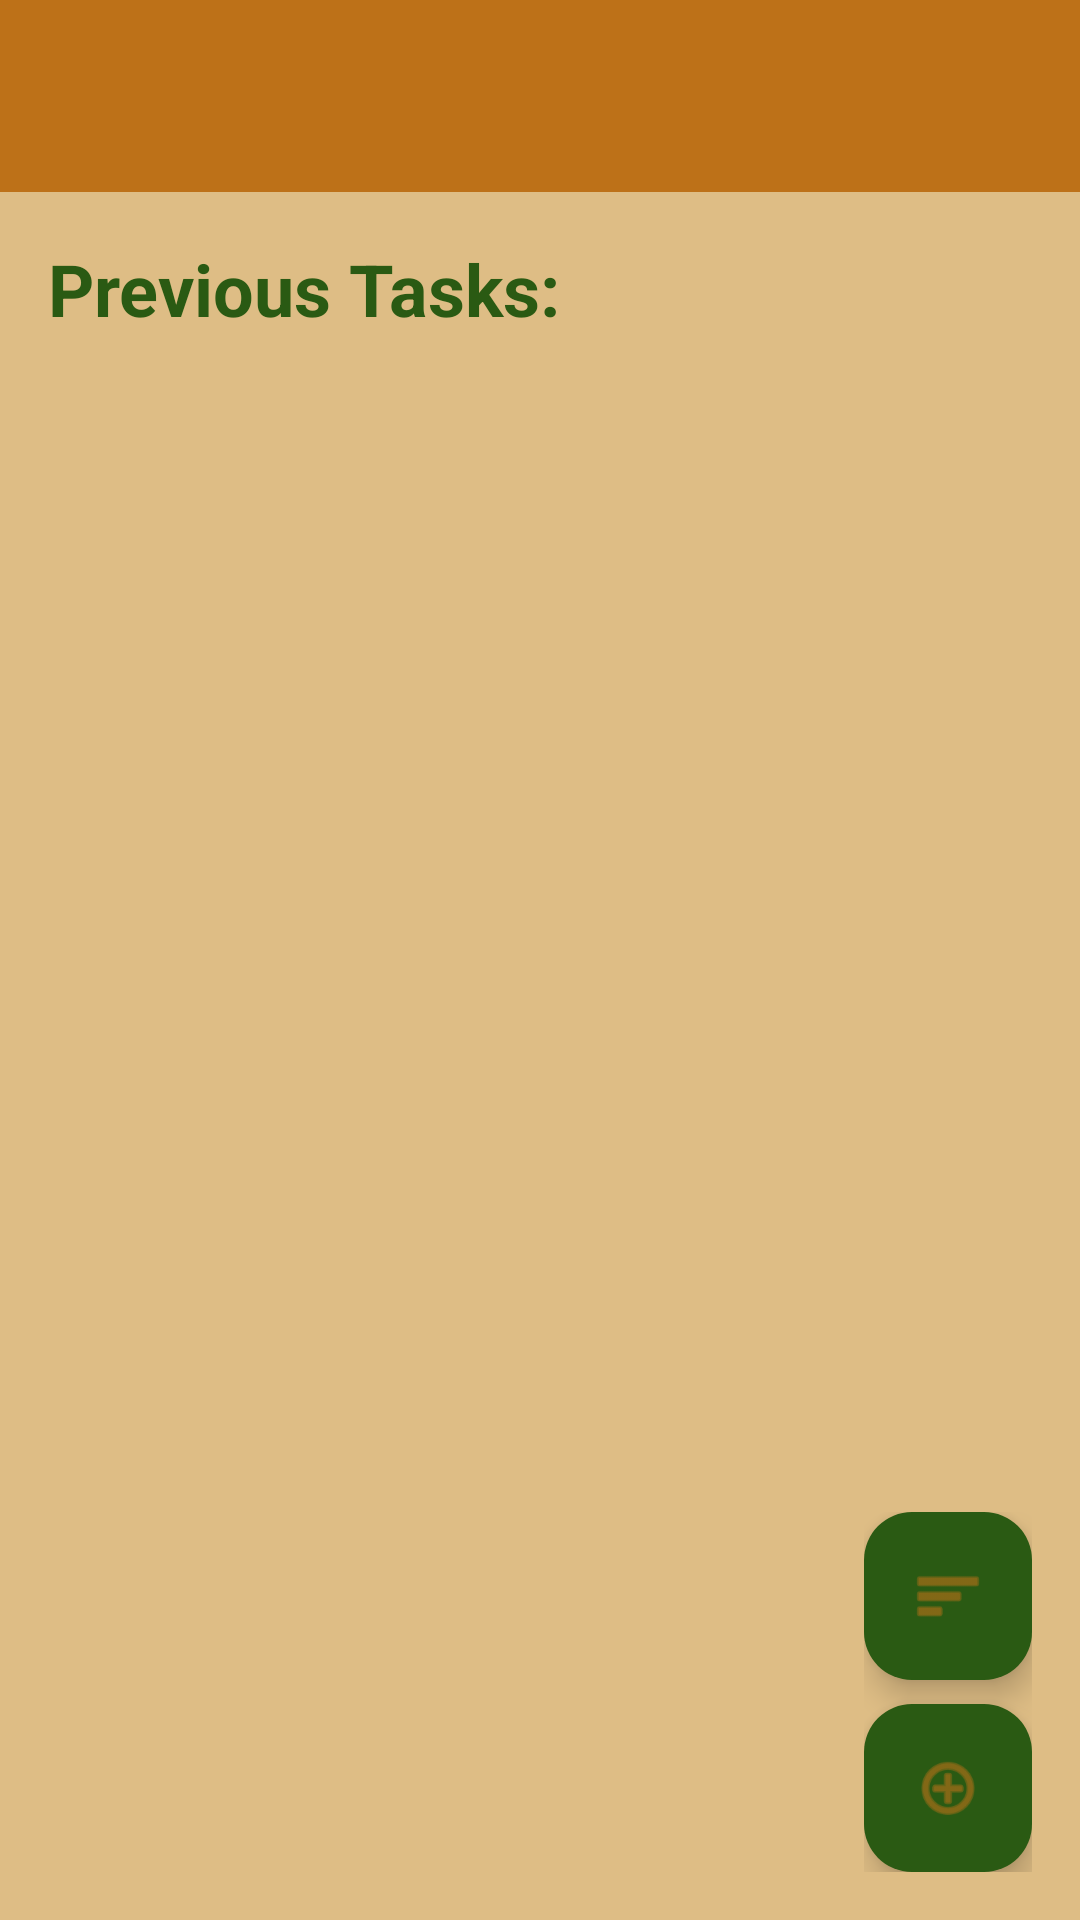

Icons on this 1080px×1920px Android screen, each with the point to tap as (x=x, y=y):
add: (x=948, y=1788)
sort by size: (x=948, y=1596)
